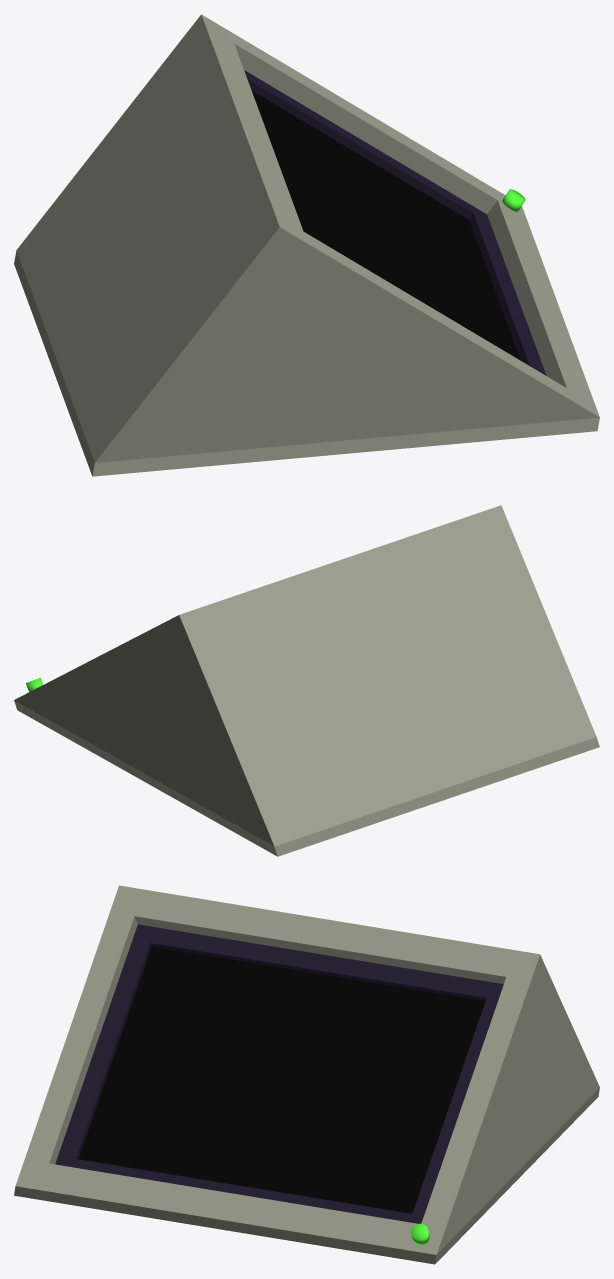
File: clock1.glb
3 renders of one model, top to bottom at view 1: azimuth 30°, elevation 25°; view 2: azimuth 150°, elevation 25°; view 3: azimuth 270°, elevation 25°, orthographic. The views are drawn at different scales.
Parts seen in each view (by area): view 1: Cube.030; view 2: Cube.030; view 3: Cube.030.
Boxes of the visible parts, box(x1,y1,x2,y2) form: Cube.030: box(14, 14, 599, 476); Cube.030: box(14, 505, 599, 856); Cube.030: box(14, 885, 599, 1264).
Size of the model in its own units: 0.7786 by 0.3053 by 0.7749.
